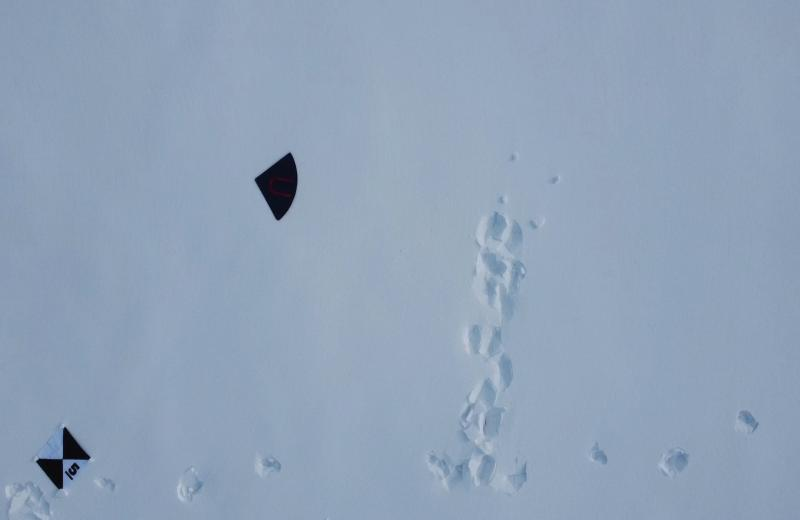Quarter Circle: (254, 150, 300, 222)
